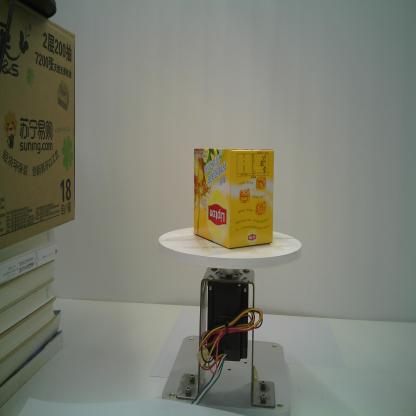Instant Drink: (193, 147, 274, 249)
